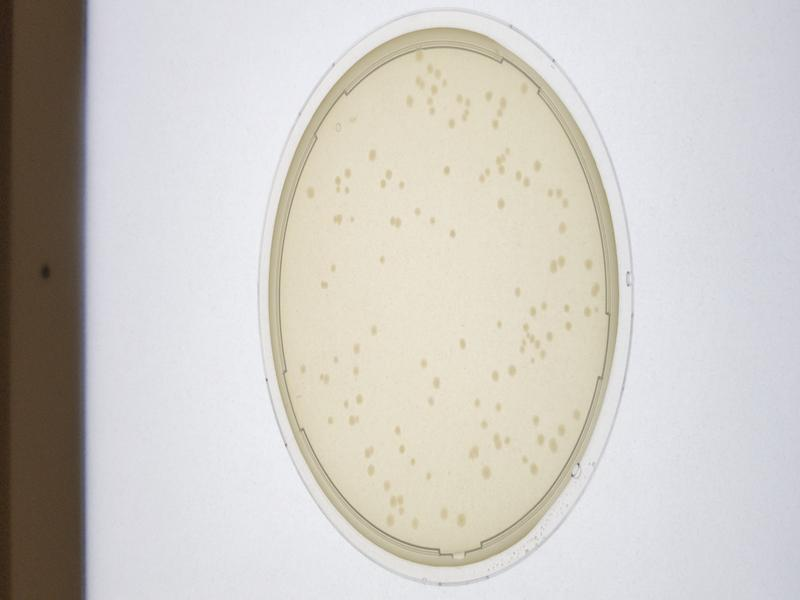colony: (363, 144, 382, 163), (554, 219, 573, 238), (406, 514, 422, 534), (453, 510, 469, 530), (493, 192, 507, 214), (434, 504, 451, 522), (478, 463, 494, 482), (529, 155, 544, 173), (479, 86, 496, 101), (509, 282, 524, 299), (581, 256, 596, 273), (487, 366, 501, 384), (428, 376, 443, 392), (347, 361, 363, 376), (363, 463, 378, 479), (351, 391, 366, 407), (557, 299, 573, 314), (389, 422, 406, 436), (444, 116, 458, 132), (445, 226, 459, 242), (423, 393, 437, 409), (438, 164, 455, 177), (456, 334, 469, 351), (347, 341, 364, 354), (561, 319, 576, 333), (532, 432, 546, 447), (542, 328, 556, 342), (529, 413, 543, 427), (477, 416, 490, 431), (542, 184, 555, 198), (396, 441, 408, 456), (328, 261, 340, 276), (506, 362, 517, 378), (376, 252, 389, 265), (490, 400, 503, 413), (395, 177, 407, 191), (526, 304, 537, 319), (537, 298, 548, 313), (417, 357, 429, 370), (427, 215, 438, 229), (492, 318, 504, 330), (423, 469, 433, 483), (472, 393, 481, 408), (411, 206, 422, 217), (527, 356, 538, 367), (406, 456, 417, 467)
